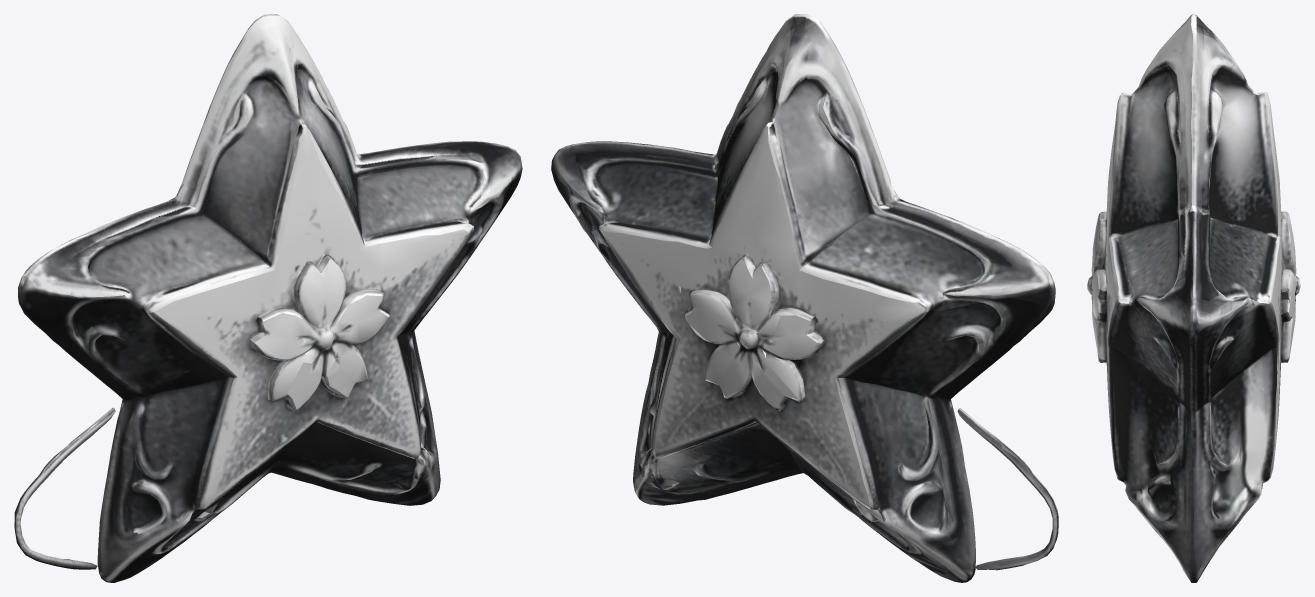
File: star-silver.glb
3 views of the same model, side by side, from view 1: azimuth 30°, elevation 25°; view 2: azimuth 150°, elevation 25°; view 3: azimuth 270°, elevation 25° (orthographic). The views are drawn at different scales.
Visible parts, largest first — view 1: geometry_0; view 2: geometry_0; view 3: geometry_0.
Part boxes in pixels (x1,y1,x2,y2): geometry_0: [14, 14, 522, 582]; geometry_0: [551, 14, 1058, 582]; geometry_0: [1087, 14, 1300, 582].
Size of the model in its own units: 0.12 by 0.12 by 0.0467.
Materials: 1 (1 with a texture image).
